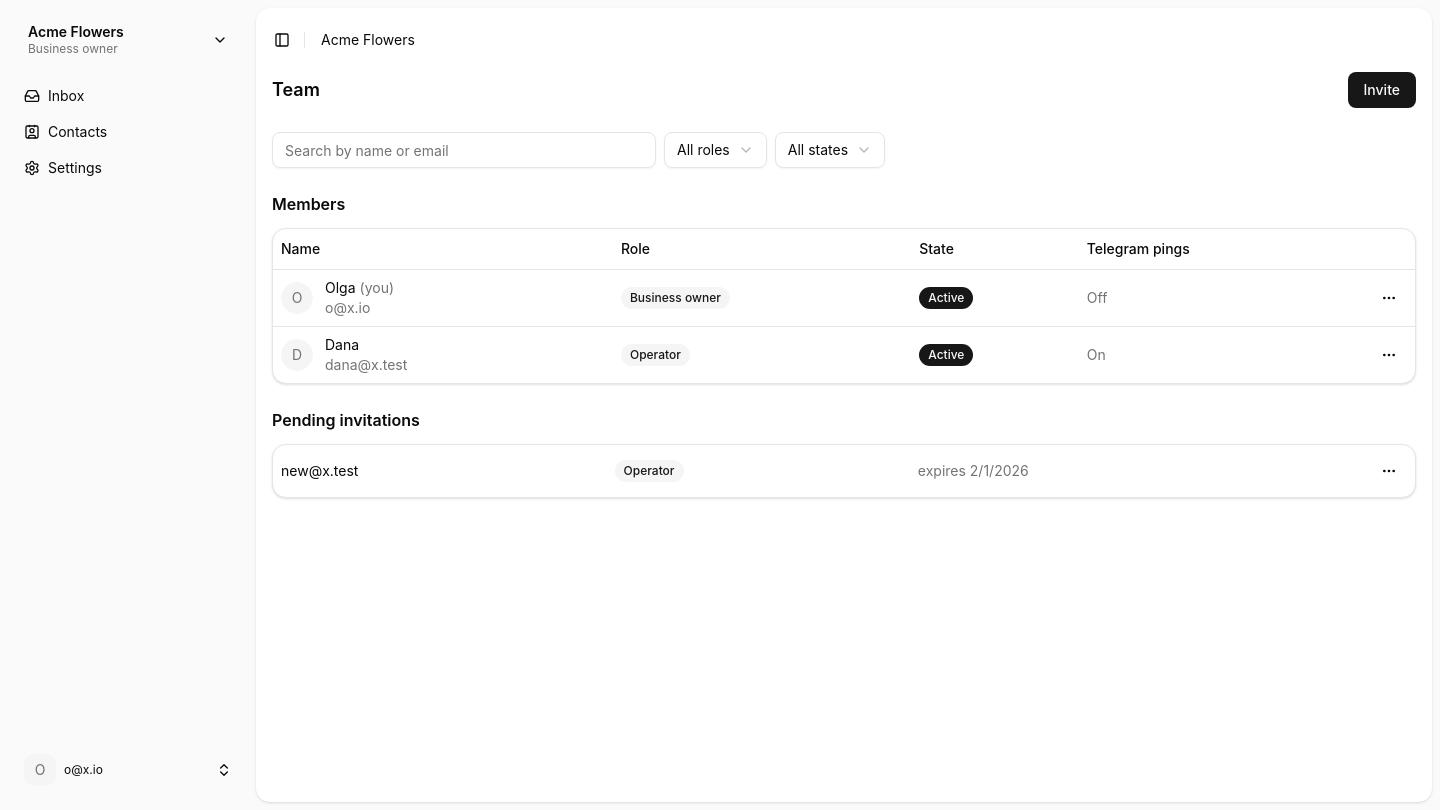
Scenario: TeamPage (SCR-07) › Telegram pings mark (AC-10, AC-12) › deactivate answer switches the row to Off; reactivate does not bring On back
The width and height of the screenshot is (1440, 810).
Expected: the text "Dana" is shown, [325,336,359,352]
Step 1. Press Enter in the button named "Actions for dana@x.test", box [1371,336,1407,372]
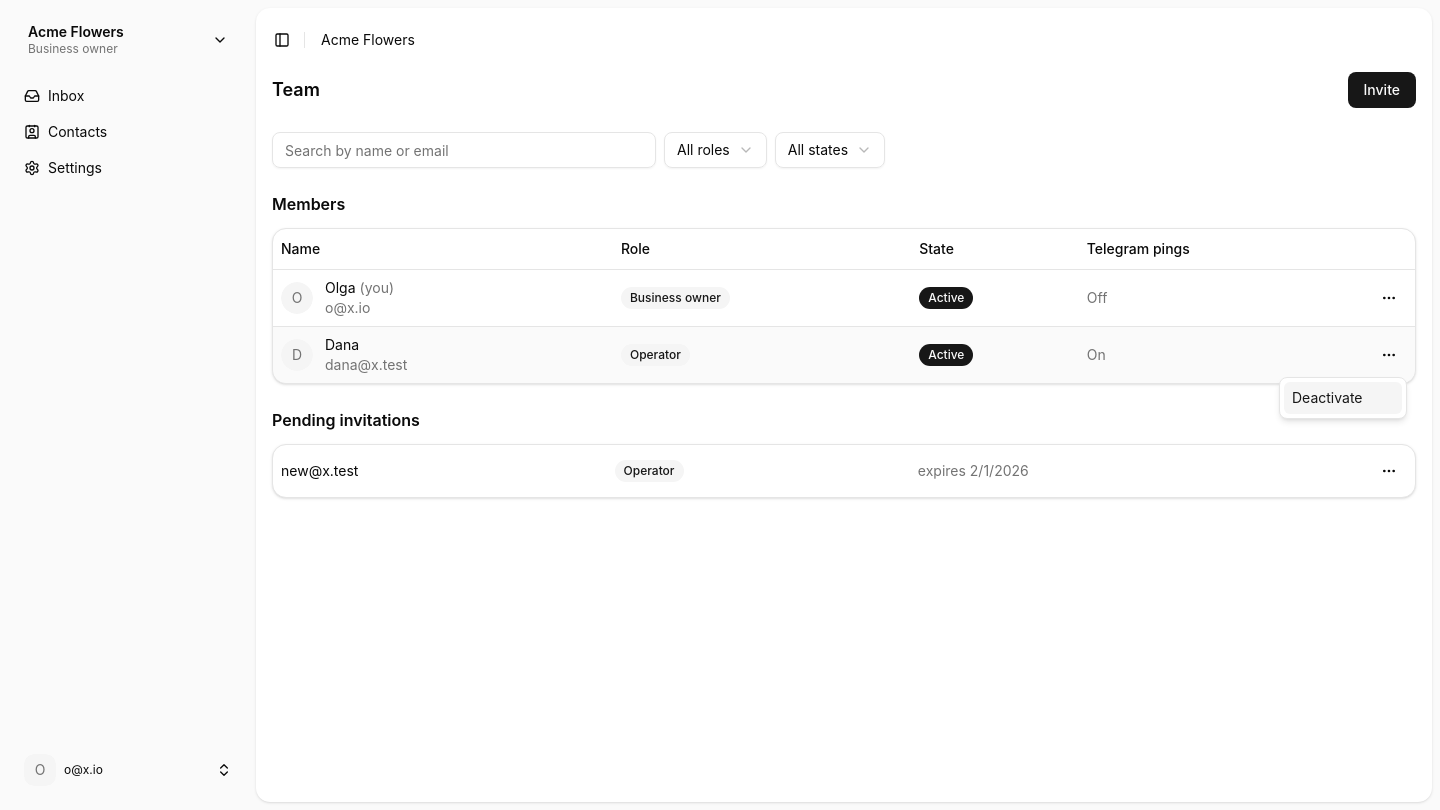
Step 2. Click the menu item "Deactivate" → {"x": 1343, "y": 398}, box [1284,382,1402,414]
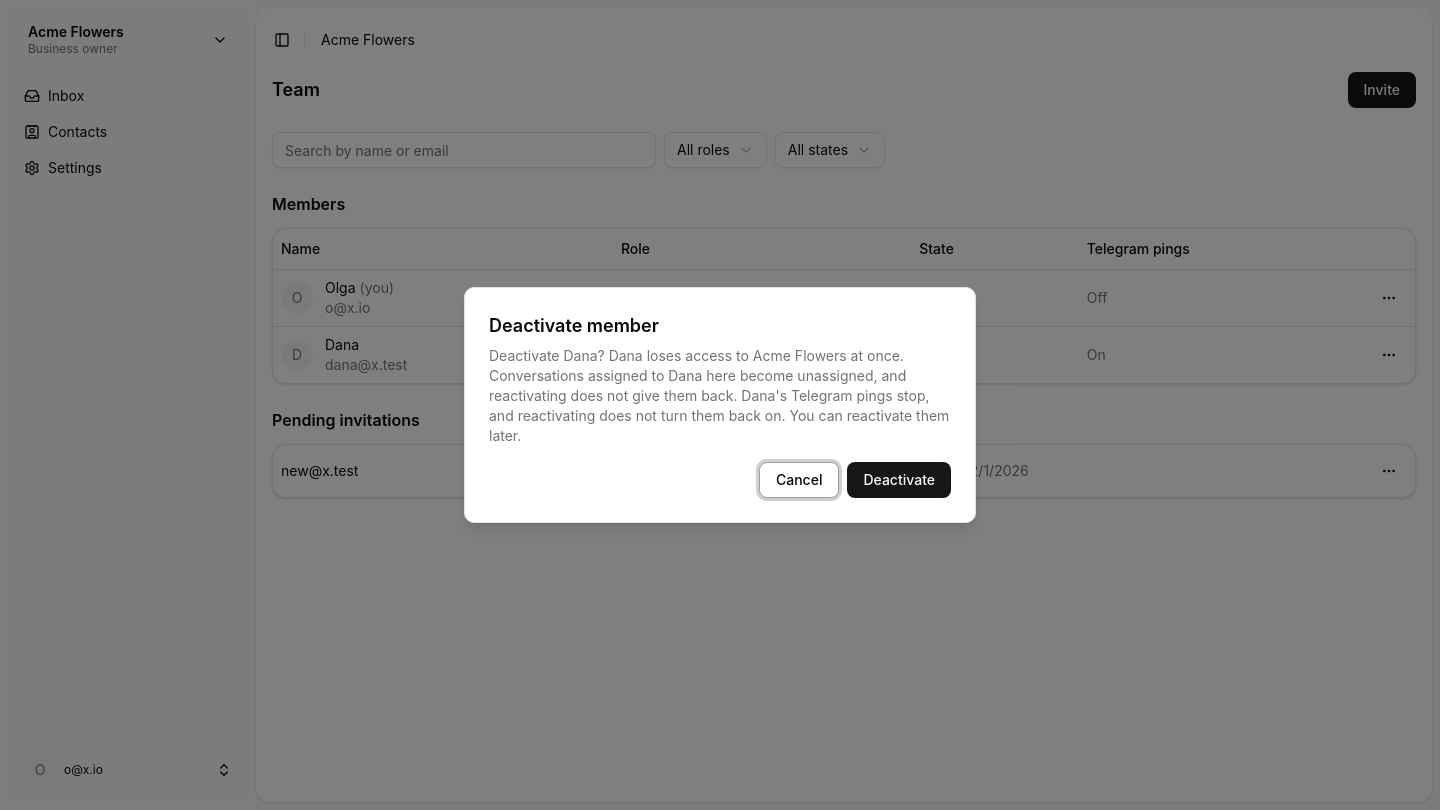
Step 3. Click the button "Deactivate" → {"x": 899, "y": 480}, box [848,462,951,498]
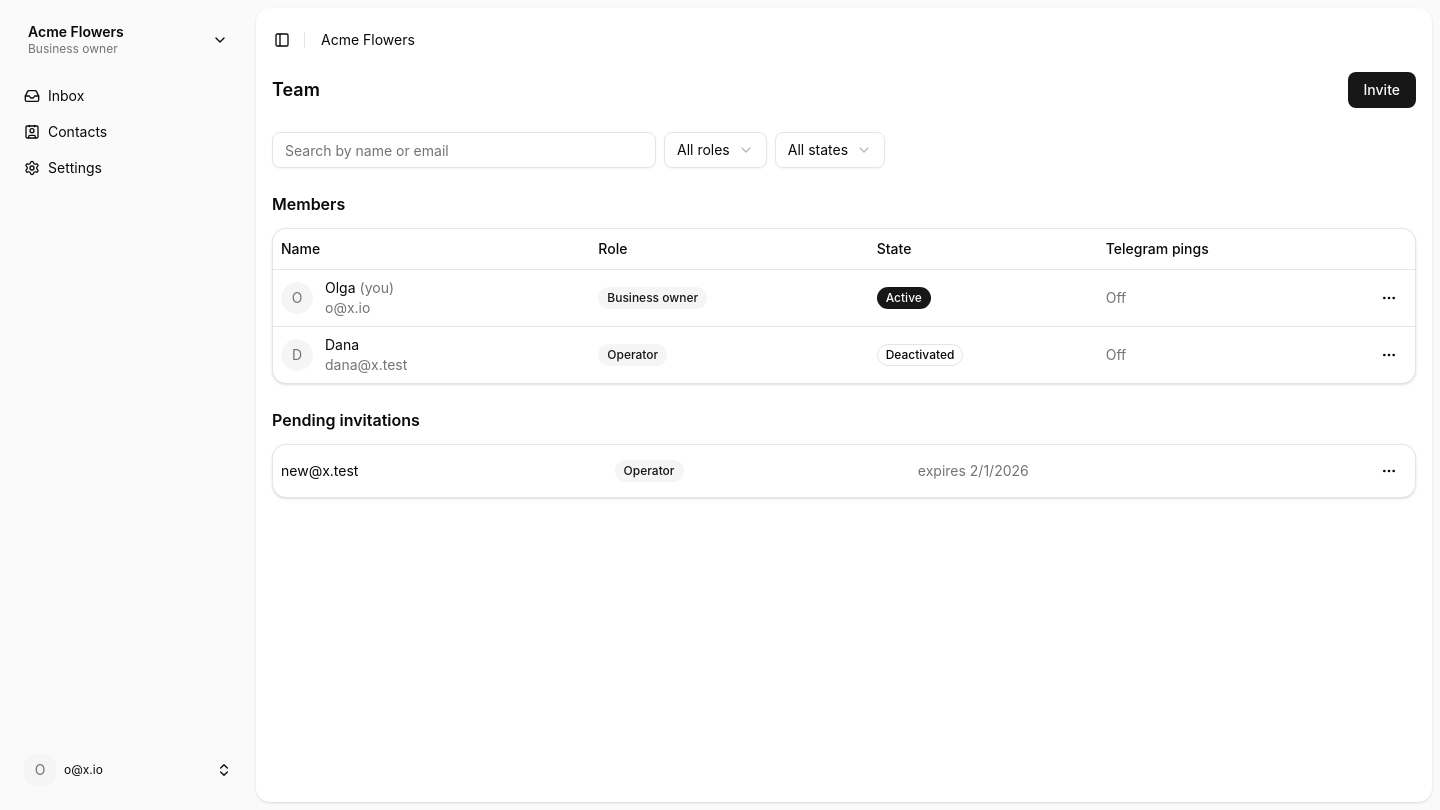
Expected: the text "Deactivated" is shown, [877,344,964,366]
Expected: the cell "Off" in the row of "dana@x.test" is shown, [1106,346,1126,362]
Step 4. Press Enter in the button named "Actions for dana@x.test", box [1371,336,1407,372]
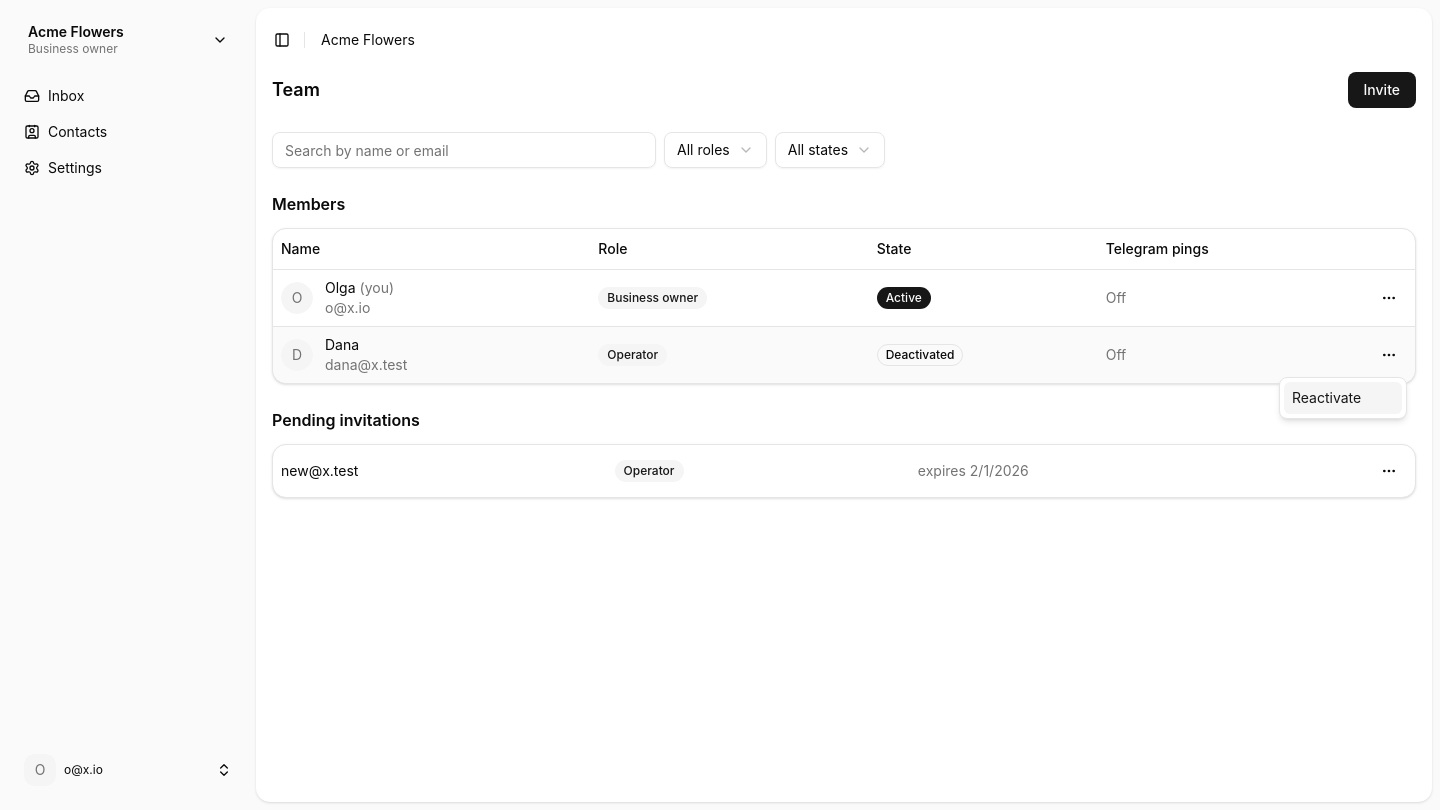
Step 5. Click the menu item "Reactivate" → {"x": 1343, "y": 398}, box [1284,382,1402,414]
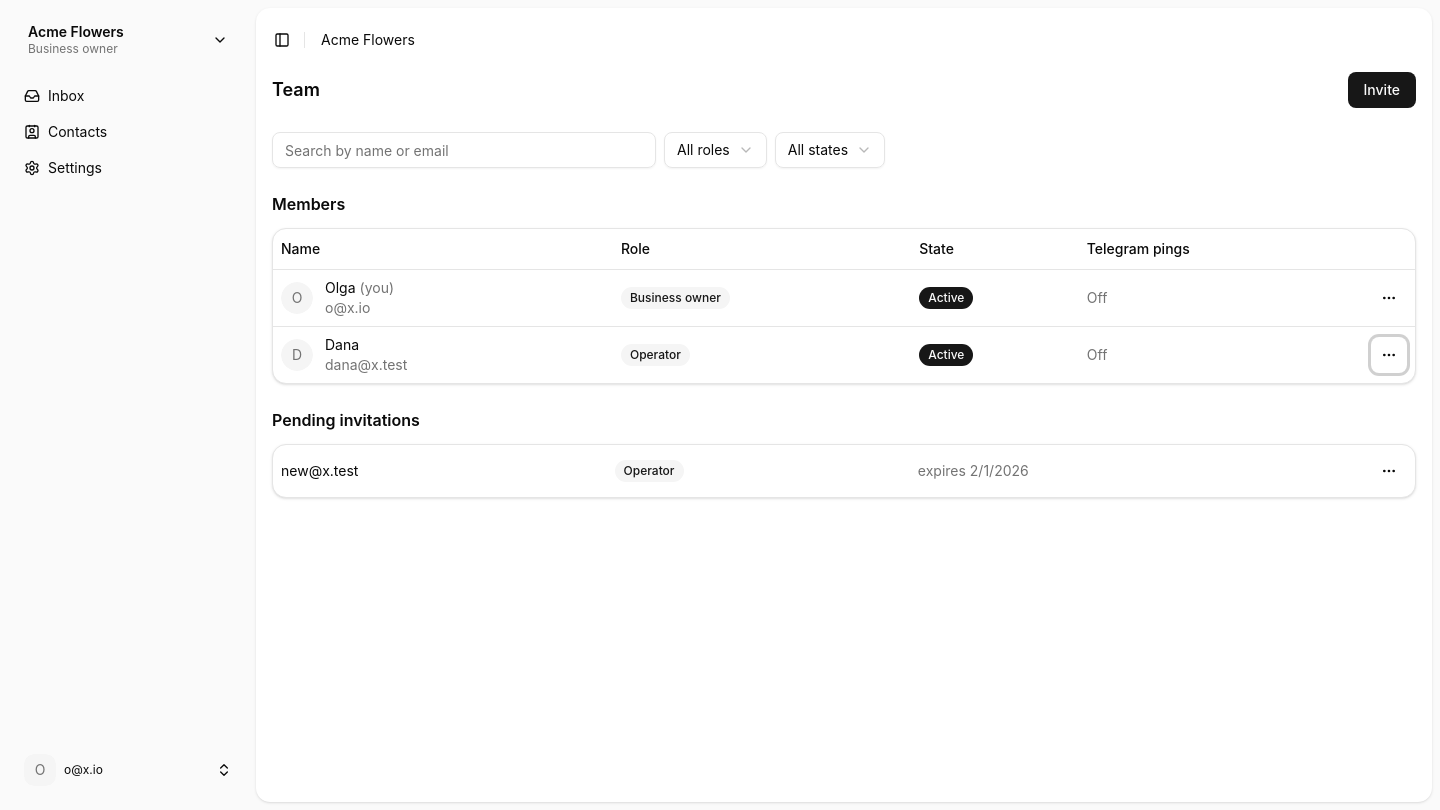
Expected: the cell "Off" in the row of "dana@x.test" is shown, [1087,346,1107,362]
Expected: the text "Active" in the row of "dana@x.test" is shown, [928,346,964,362]
